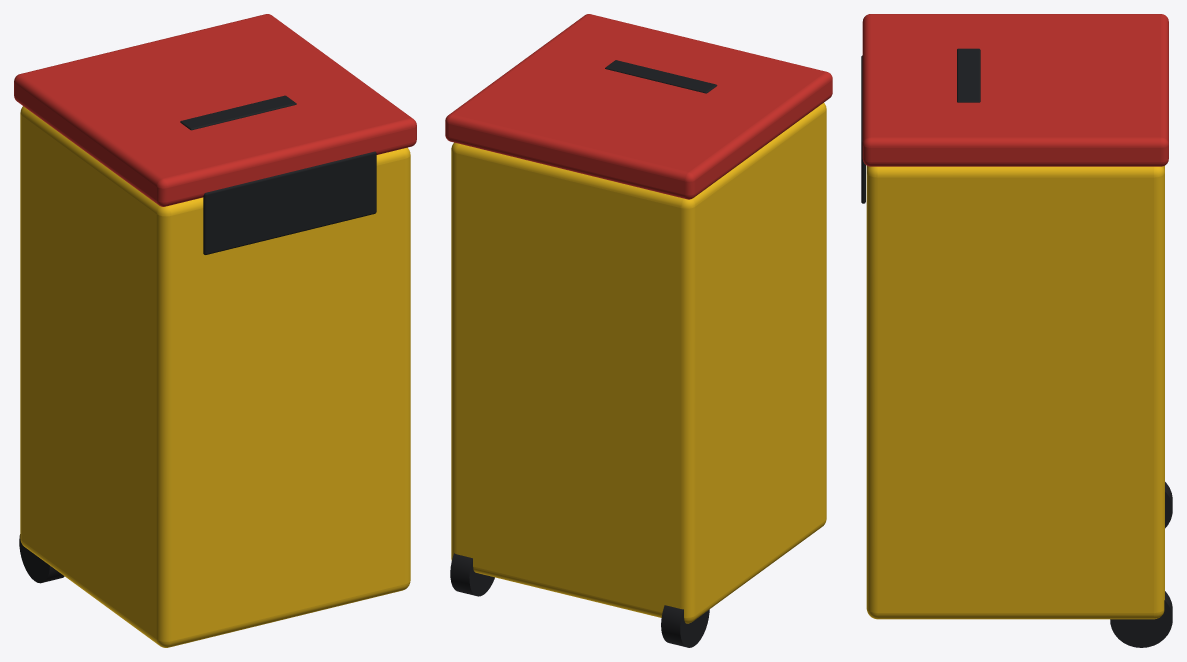
The model's file is bins.glb.
3 views of the same model, side by side, from view 1: azimuth 30°, elevation 25°; view 2: azimuth 150°, elevation 25°; view 3: azimuth 270°, elevation 25° (orthographic). The views are drawn at different scales.
Parts seen in each view (by area): view 1: ewaste_bin, ewaste_lid, ewaste_flap, ewaste_slot, ewaste_wheels; view 2: ewaste_bin, ewaste_lid, ewaste_wheels, ewaste_slot; view 3: ewaste_bin, ewaste_lid, ewaste_wheels, ewaste_slot.
Part boxes in pixels (bbox=[...]): ewaste_bin: bbox=[20, 106, 410, 647]; ewaste_lid: bbox=[14, 14, 416, 206]; ewaste_flap: bbox=[203, 151, 376, 254]; ewaste_slot: bbox=[180, 95, 296, 130]; ewaste_wheels: bbox=[19, 534, 64, 583]; ewaste_bin: bbox=[451, 103, 826, 623]; ewaste_lid: bbox=[445, 14, 832, 199]; ewaste_wheels: bbox=[450, 553, 709, 647]; ewaste_slot: bbox=[605, 60, 717, 93]; ewaste_bin: bbox=[866, 165, 1164, 619]; ewaste_lid: bbox=[862, 14, 1168, 166]; ewaste_wheels: bbox=[1110, 482, 1172, 647]; ewaste_slot: bbox=[957, 48, 980, 102].
Bounding box in the file's own units: 0.39 × 0.722 × 0.3969.
